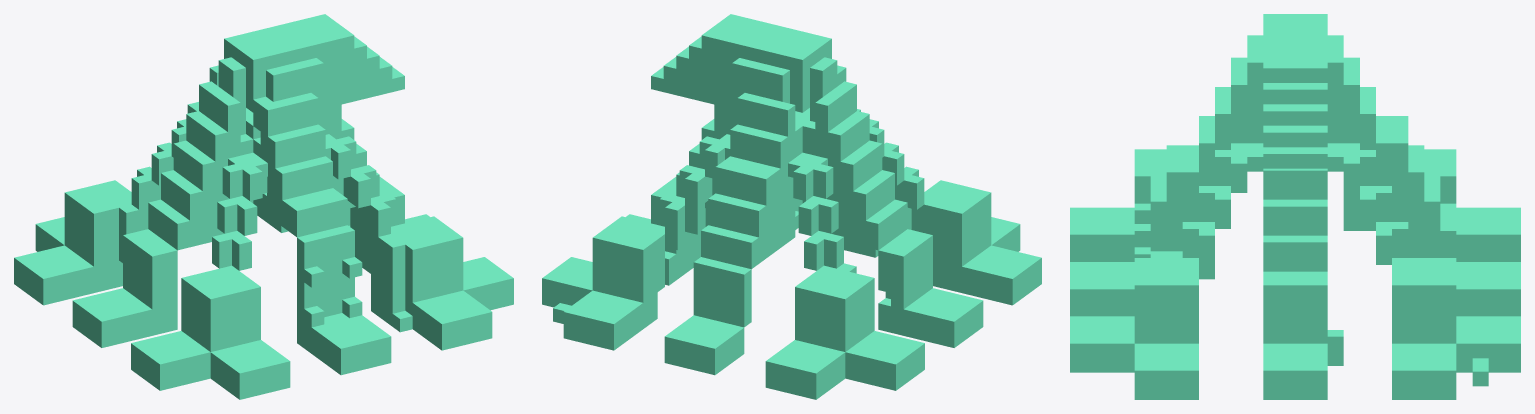
3 views of the same model, side by side, from view 1: azimuth 30°, elevation 25°; view 2: azimuth 150°, elevation 25°; view 3: azimuth 270°, elevation 25° (orthographic). The views are drawn at different scales.
Visible parts, largest first — view 1: 63.1; view 2: 63.1; view 3: 63.1.
Boxes of the visible parts, bbox=[...] form: 63.1: bbox=[14, 14, 513, 399]; 63.1: bbox=[542, 14, 1041, 399]; 63.1: bbox=[1070, 14, 1520, 399].
Bounding box in the file's own units: 280 × 190 × 280.
Materials: 1 (1 with a texture image).
